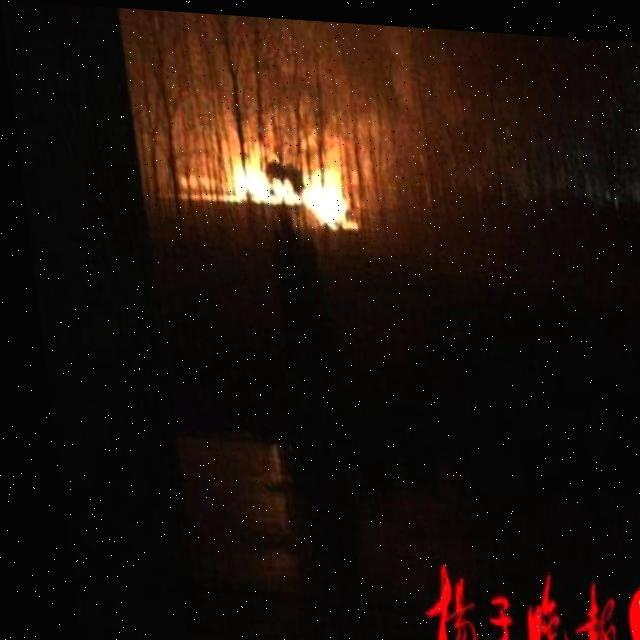Fire: (226, 146, 354, 227)
